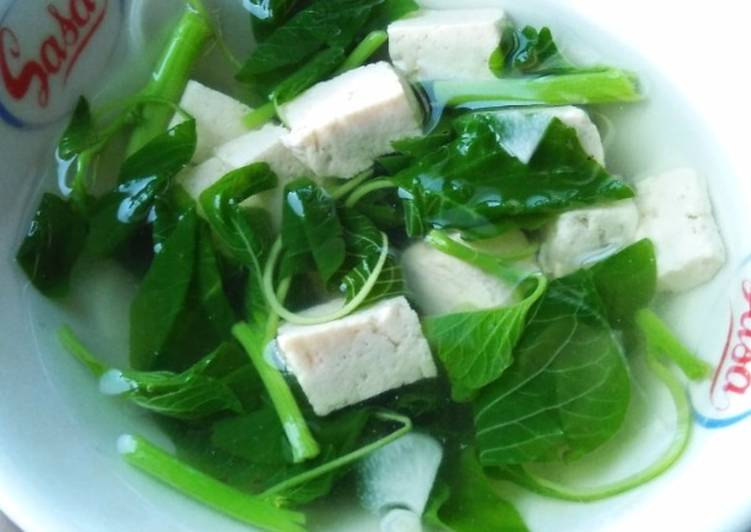Sayur Bayam: (33, 36, 650, 514)
Tahu: (271, 273, 446, 422), (263, 51, 436, 192), (366, 2, 531, 103), (500, 181, 646, 292), (640, 151, 730, 288)
